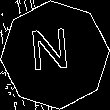N_S: (33, 28, 77, 82)
